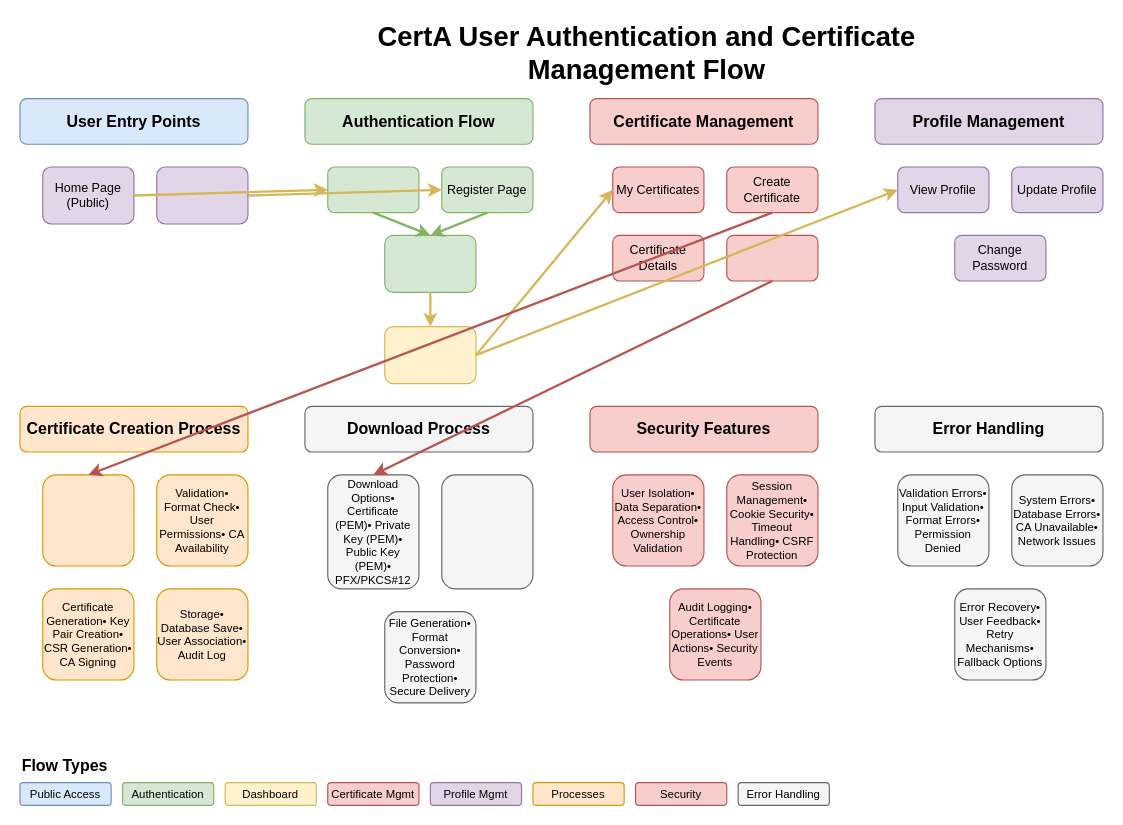
The diagram is 1123 pixels wide and 825 high, and some of its shapes have lost their labels. Each missing label, with the box of its shape:
Authentication Validation: (384, 234, 476, 292)
CA Information (Public): (156, 166, 248, 224)
Certificate Form• Common Name• Subject Alt Names• Certificate Type: (42, 474, 134, 566)
Dashboard (Authenticated): (384, 325, 476, 384)
Download Certificate: (726, 234, 818, 281)
Login Page: (327, 166, 419, 213)
Security Check• User Ownership• Certificate Access• Download Logging: (441, 474, 533, 589)
